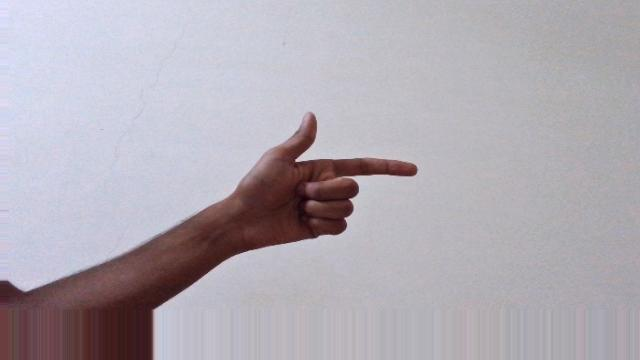Left: (240, 111, 421, 245)
